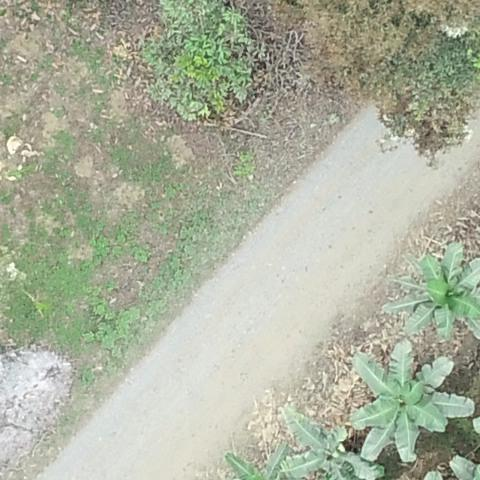Banana-plant: (342, 334, 469, 456), (388, 235, 480, 348), (269, 397, 387, 480)
